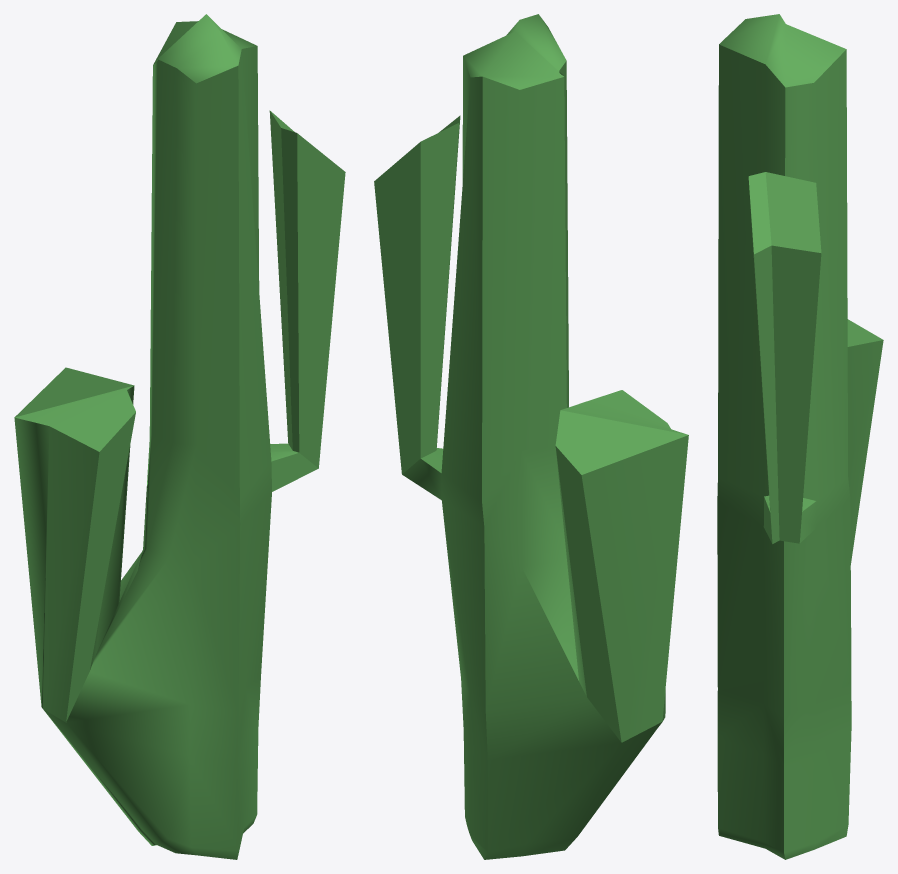
Rendered from cactus.fbx.
The picture shows the model from 3 angles, left to right: view 1: azimuth 30°, elevation 25°; view 2: azimuth 150°, elevation 25°; view 3: azimuth 270°, elevation 25°; orthographic projection.
Visible parts, largest first — view 1: pCylinder2; view 2: pCylinder2; view 3: pCylinder2.
Boxes of the visible parts, <box> form: pCylinder2: <box>14,14,345,859</box>; pCylinder2: <box>374,14,688,859</box>; pCylinder2: <box>717,14,883,859</box>.
Bounding box in the file's own units: 10.14 × 26 × 4.76.
